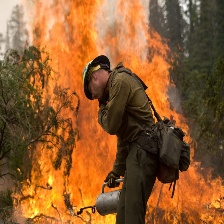fire: (22, 2, 222, 224)
